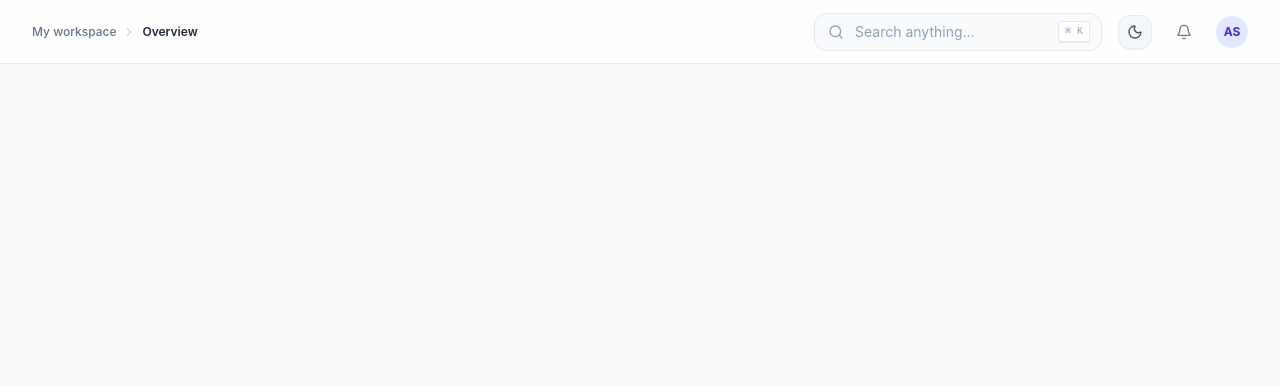
Test: Frontend Navigation Links & Header Tests › renders empty notification state when there are no alerts
This screenshot has width=1280, height=386.
Step 1. Click the button named "View notifications" → x=1184, y=32, box [1168, 16, 1200, 48]
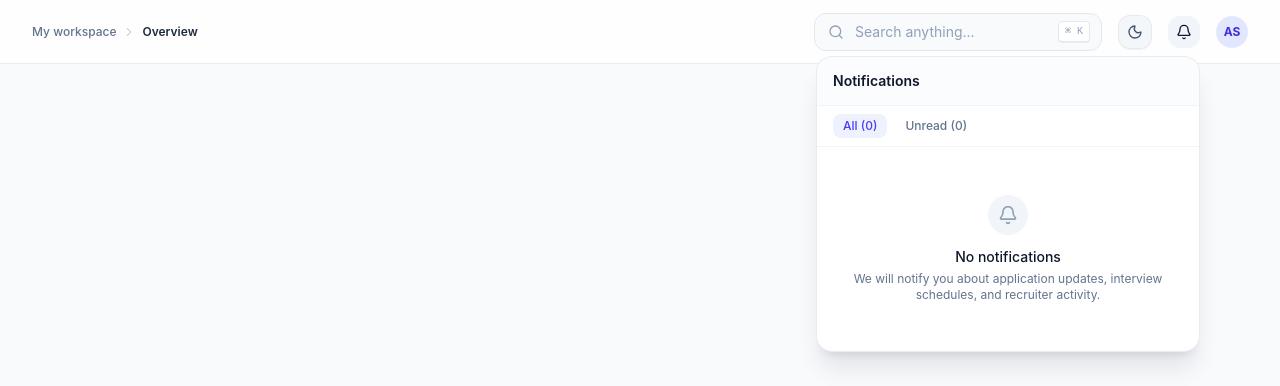
Check: the text "No notifications" is shown, box [955, 248, 1061, 264]
